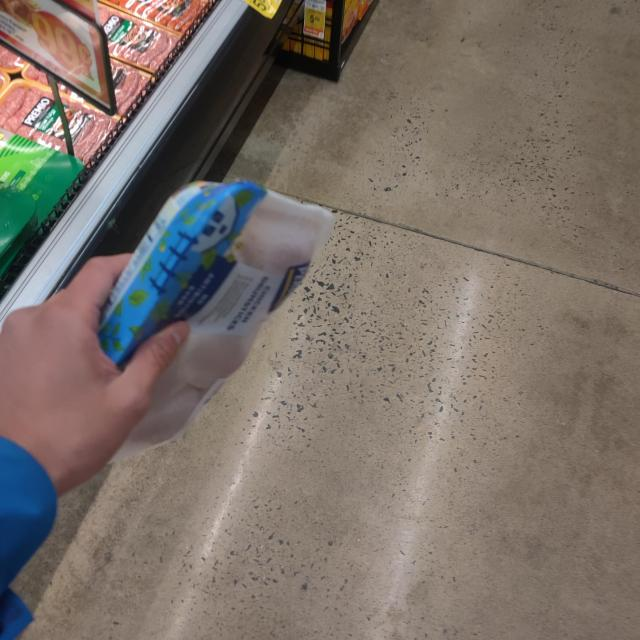Meat: (82, 173, 364, 461)
